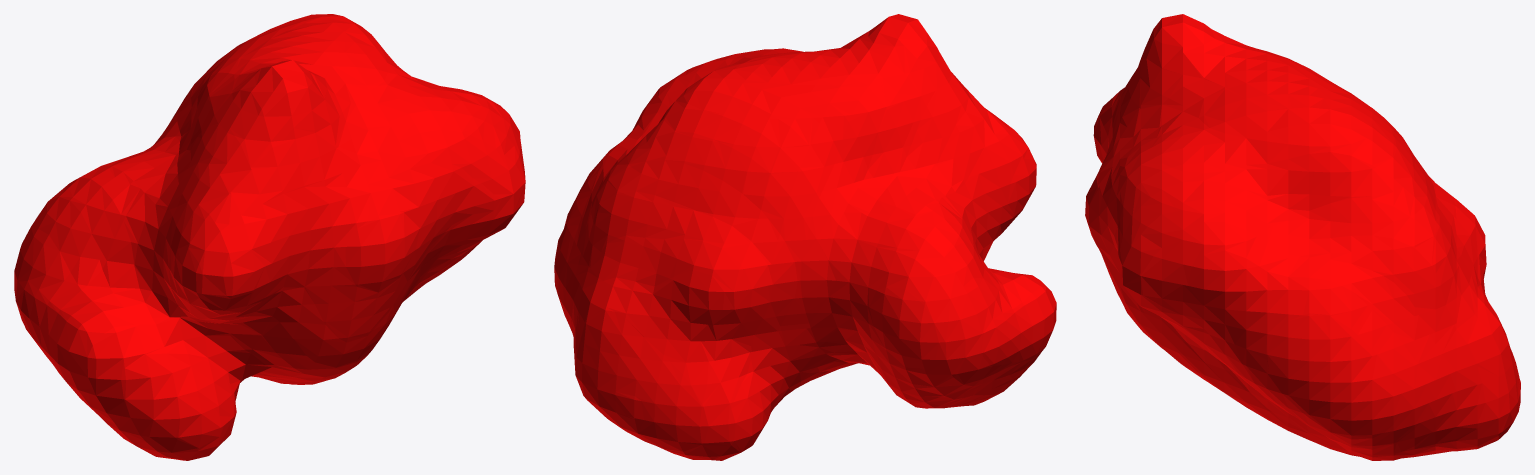
Rendered from ilvM_coarse.dae.
3 renders of one model, left to right at view 1: azimuth 30°, elevation 25°; view 2: azimuth 150°, elevation 25°; view 3: azimuth 270°, elevation 25°, orthographic. The views are drawn at different scales.
Parts seen in each view (by area): view 1: ilvM; view 2: ilvM; view 3: ilvM.
Boxes of the visible parts, x1,y1,x2,y2 form: ilvM: (14,14,525,460); ilvM: (554,14,1056,460); ilvM: (1085,14,1520,460).
Bounding box in the file's own units: 41.64 × 33.8 × 34.01.
